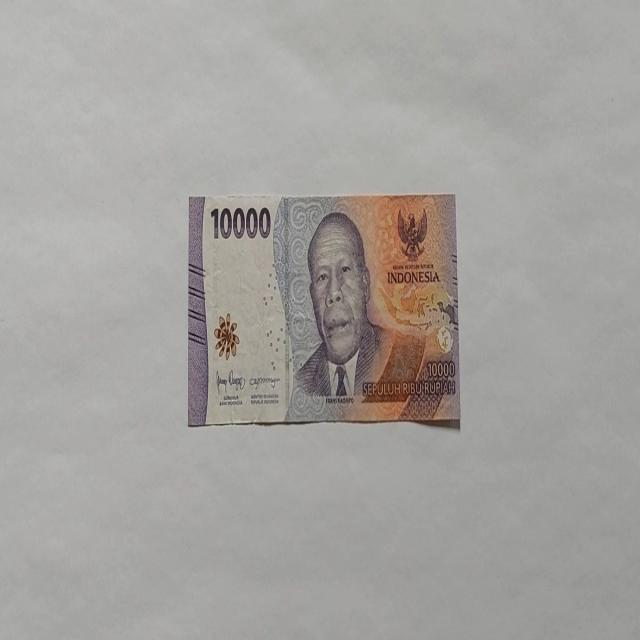sepuluh ribu rupiah: (187, 191, 460, 429), (284, 208, 426, 420)
